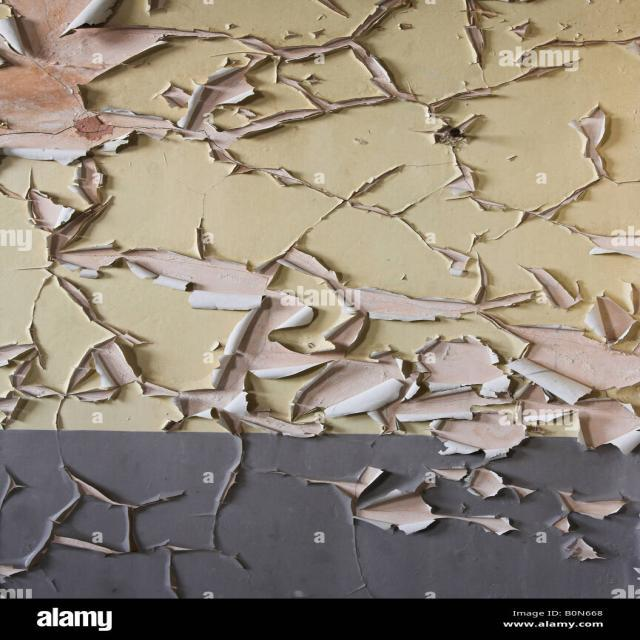peeling: (6, 4, 639, 576)
